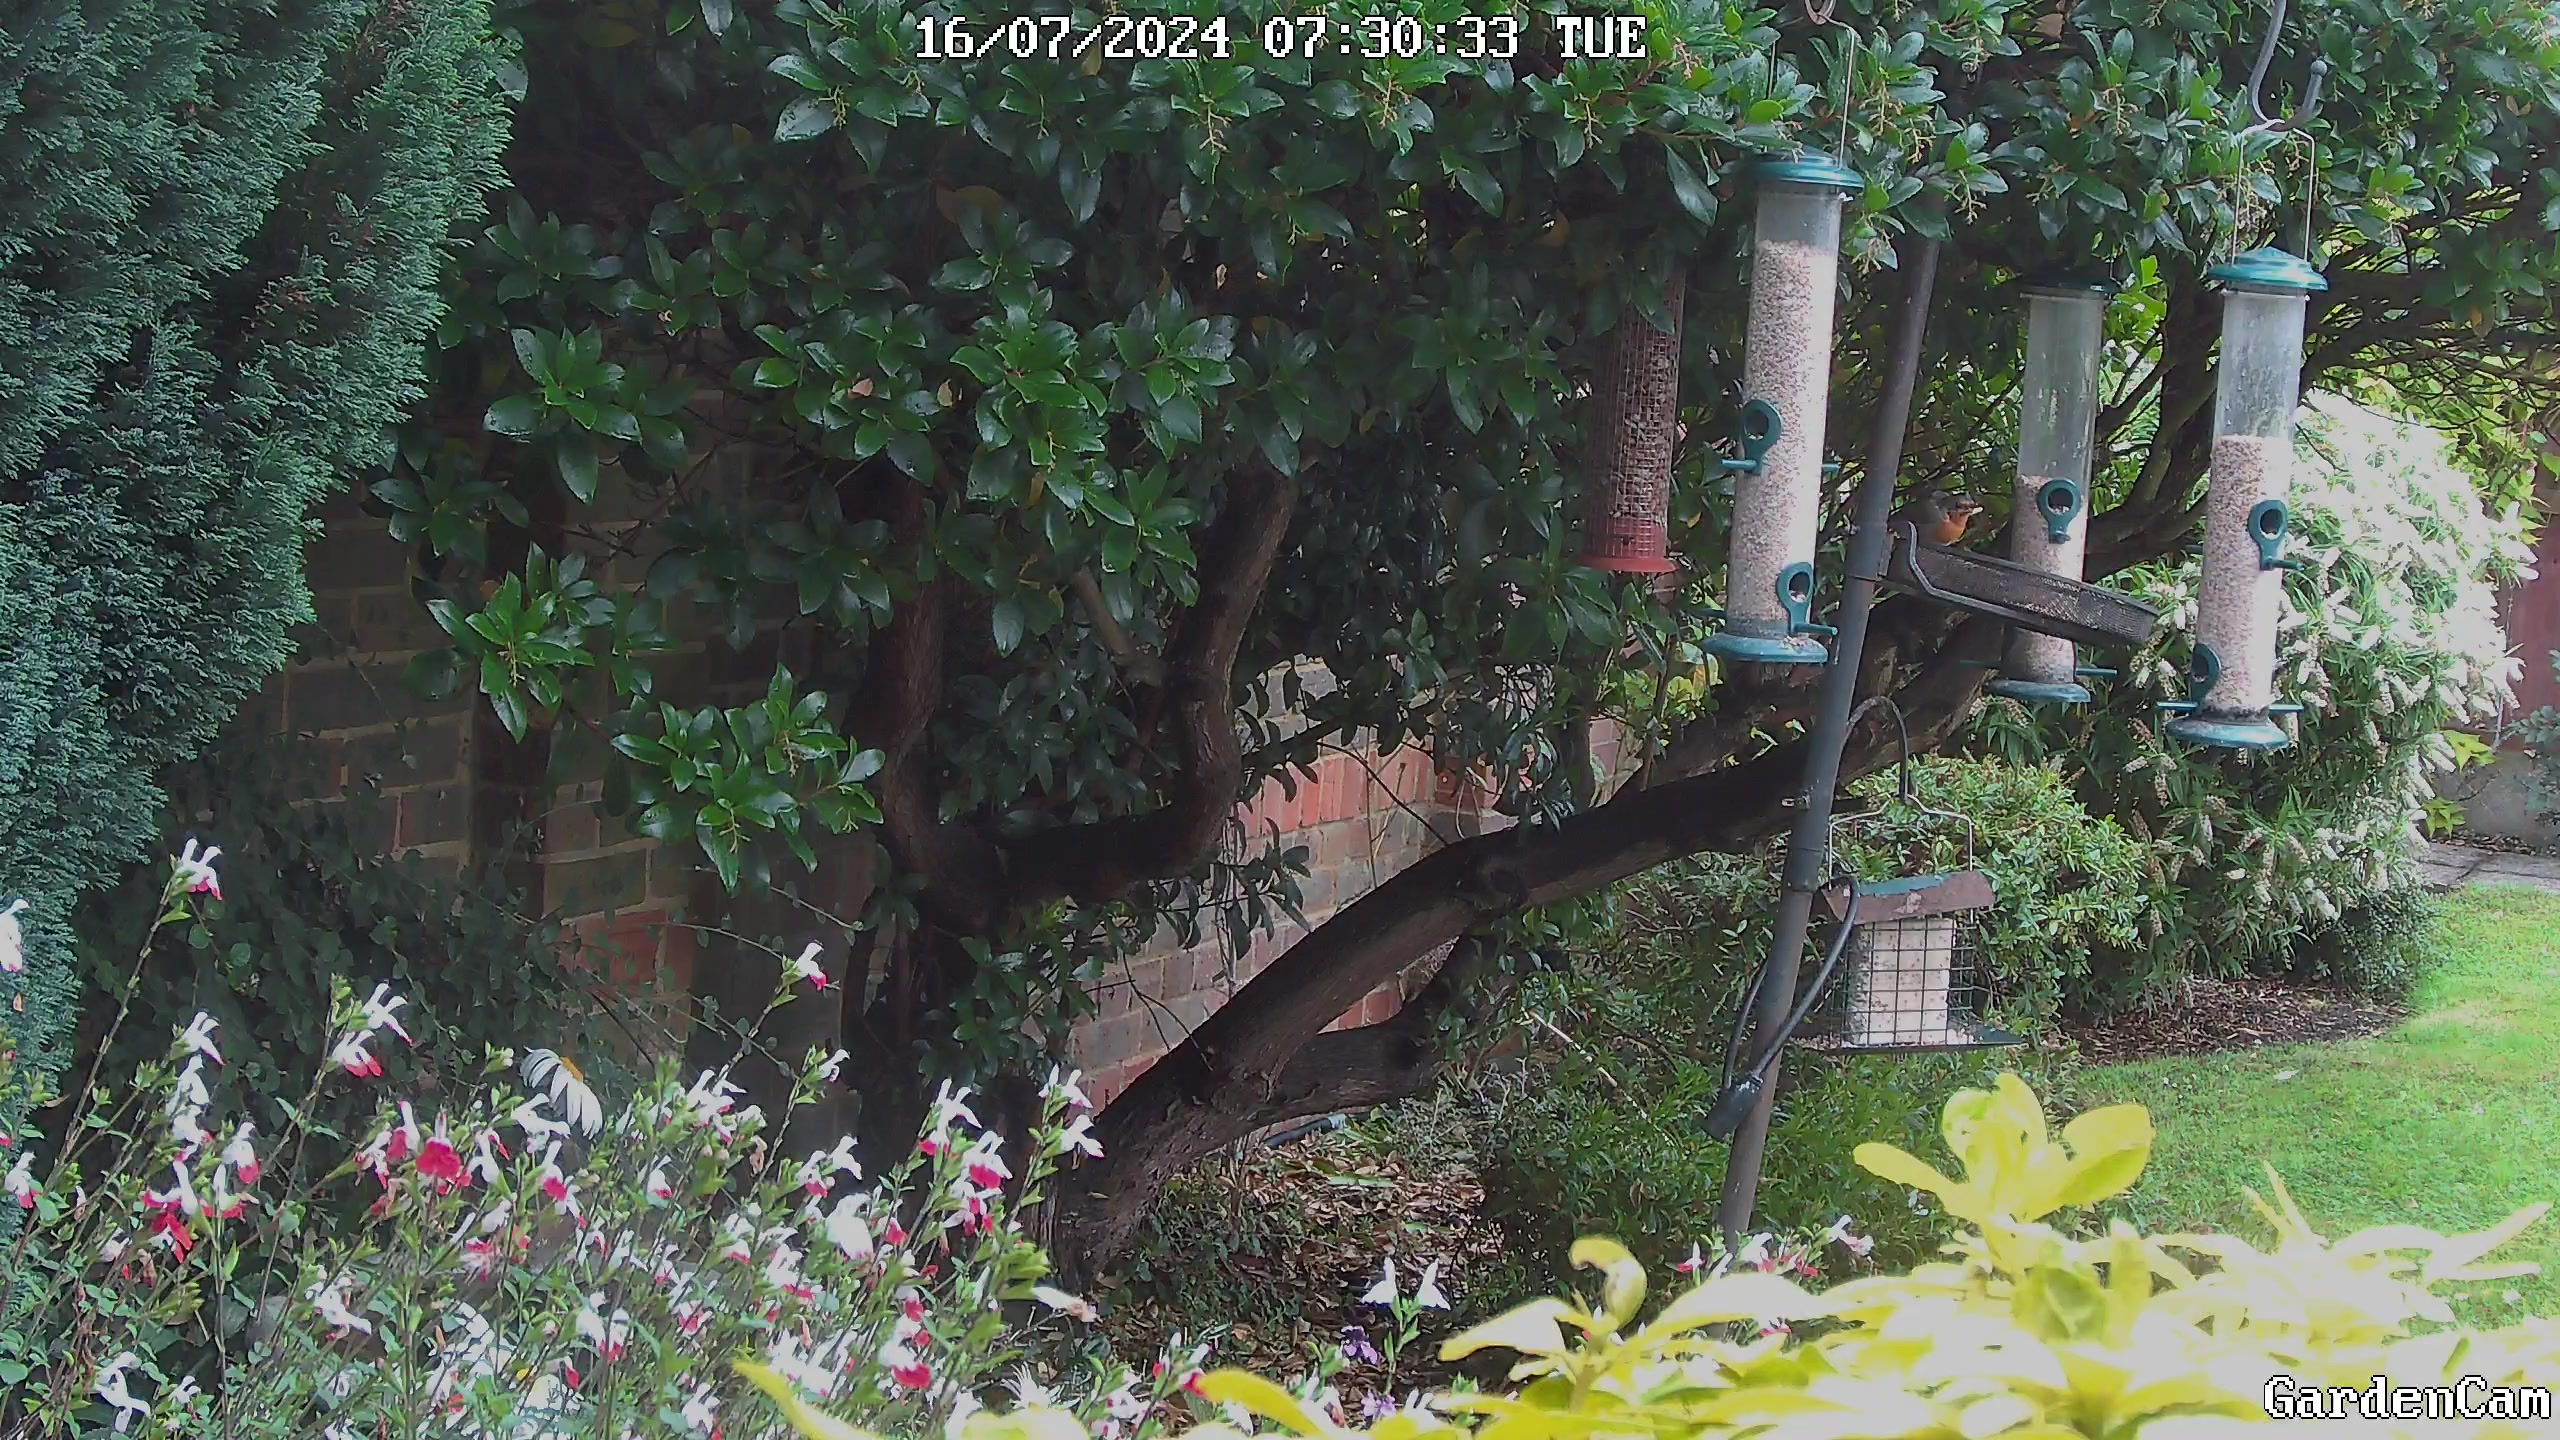Robin: (1897, 475, 1992, 570)
